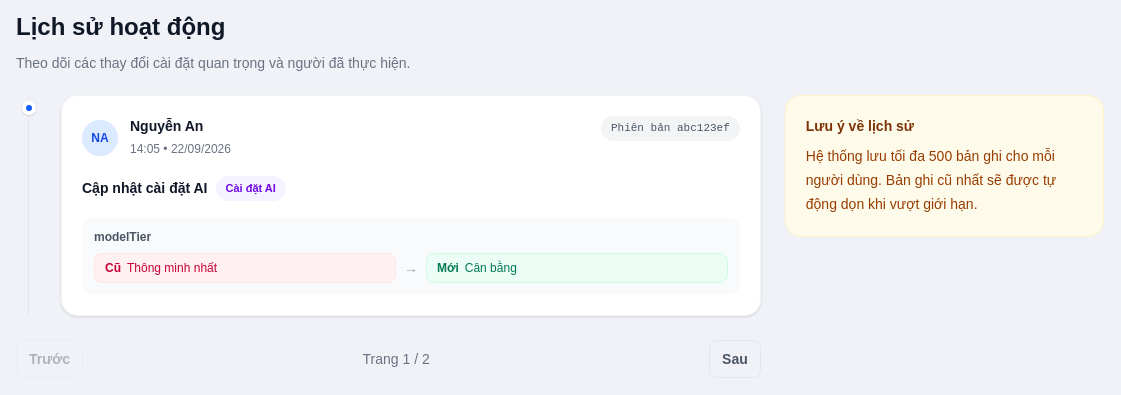
Test case: SettingHistoryTimeline › mounts, loads page one and advances pagination without applying a client filter
This screenshot has width=1121, height=395.
Click the button "Sau": (735, 358) [709,340,761,378]
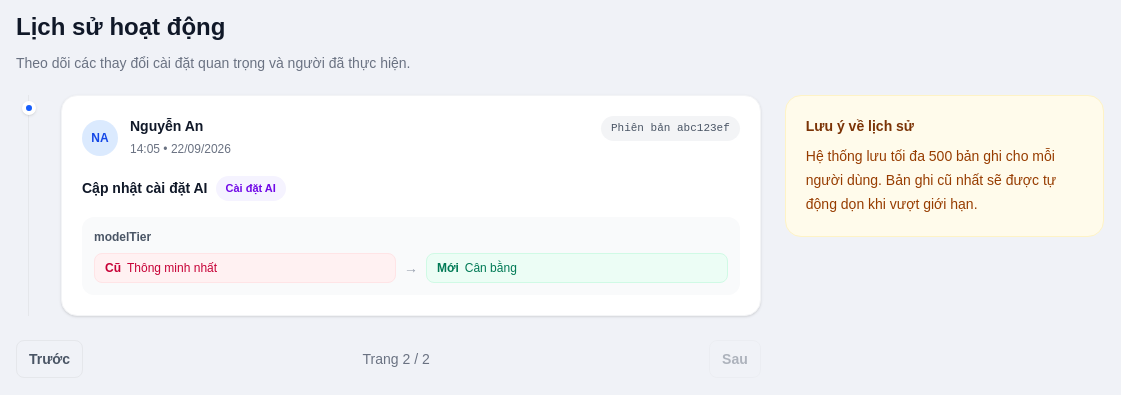
Expected: the text "Trang 2 / 2" is shown, [362,348,430,368]
